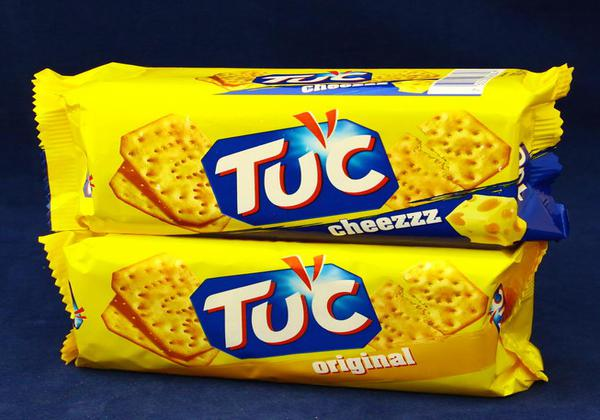crackers tuc: (85, 241, 522, 399), (85, 96, 519, 230)
